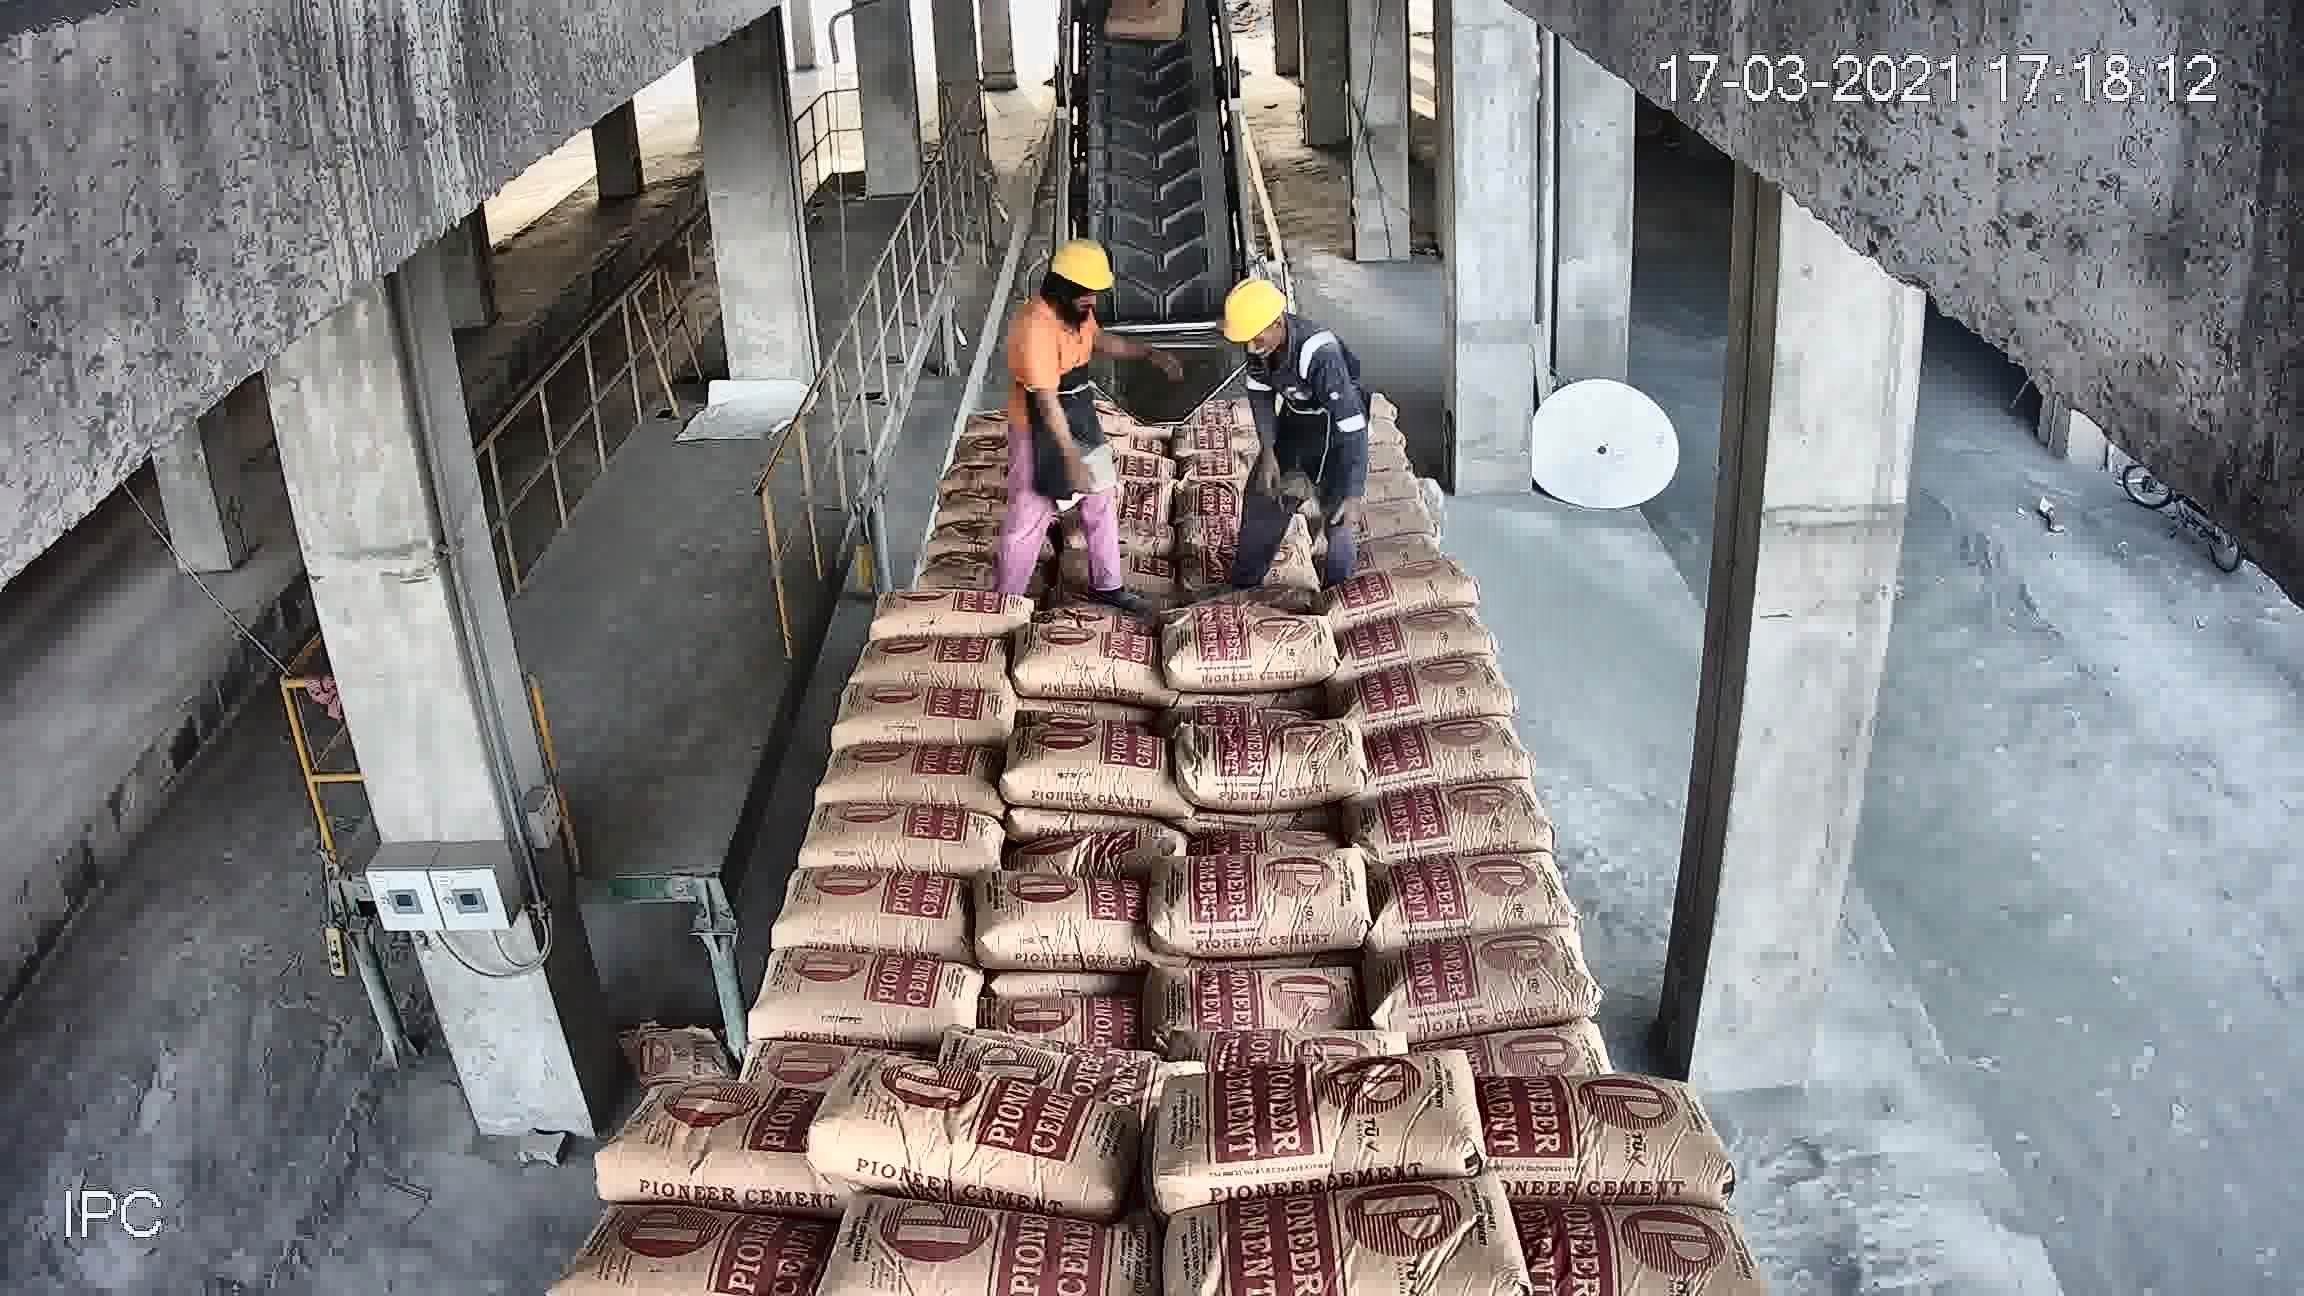bag_h: (1146, 1060, 1476, 1195), (802, 1074, 1135, 1206), (1400, 926, 1590, 1041), (1157, 866, 1364, 957), (1138, 957, 1362, 1041), (796, 791, 1006, 880), (973, 859, 1144, 965), (1377, 858, 1568, 946), (954, 1025, 1158, 1105), (772, 870, 975, 949), (1152, 601, 1329, 688), (1184, 718, 1356, 807), (1324, 652, 1516, 731), (1006, 722, 1165, 817), (826, 673, 1013, 748), (1350, 790, 1551, 859), (1173, 1017, 1386, 1082), (1370, 714, 1524, 801), (1318, 551, 1487, 623), (1008, 820, 1188, 888), (1006, 631, 1165, 701), (1347, 608, 1489, 674), (877, 581, 1025, 641), (850, 627, 1010, 682), (986, 992, 1138, 1048)
bag_v: (1480, 1063, 1733, 1198)
belt: (1051, 21, 1255, 380), (585, 1078, 807, 1192), (744, 957, 957, 1051), (809, 747, 995, 807)
